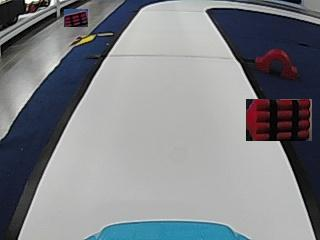bridge: (256, 47, 296, 78)
